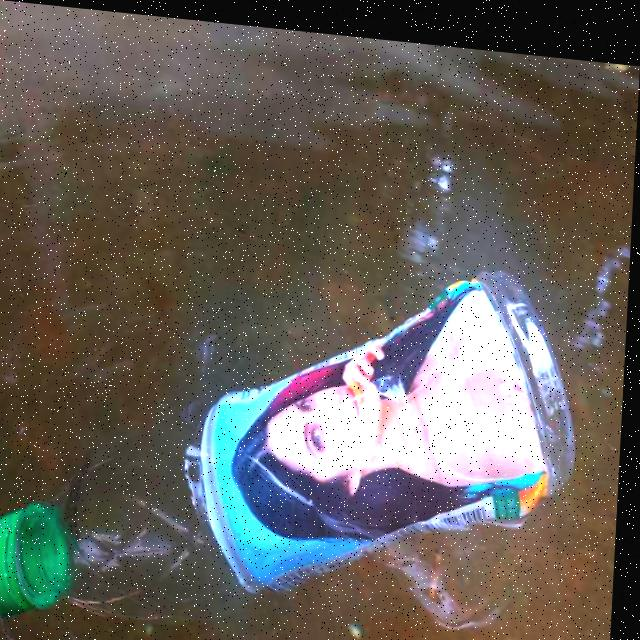waterbottle: (0, 193, 600, 640)
